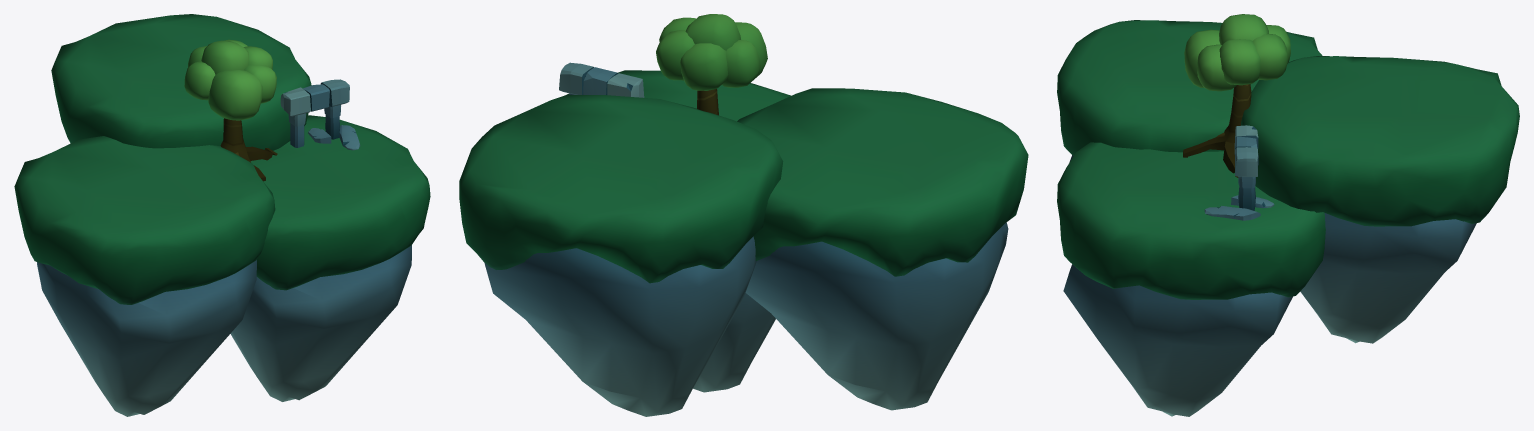
File: IslandGeo.obj
3 views of the same model, side by side, from view 1: azimuth 30°, elevation 25°; view 2: azimuth 150°, elevation 25°; view 3: azimuth 270°, elevation 25° (orthographic). The views are drawn at different scales.
Visible parts, largest first — view 1: IslandGeo; view 2: IslandGeo; view 3: IslandGeo.
Part boxes in pixels (x1,y1,x2,y2): IslandGeo: (14, 14, 430, 416); IslandGeo: (459, 14, 1028, 416); IslandGeo: (1057, 14, 1519, 416).
Bounding box in the file's own units: 32.63 × 28.64 × 31.82.
